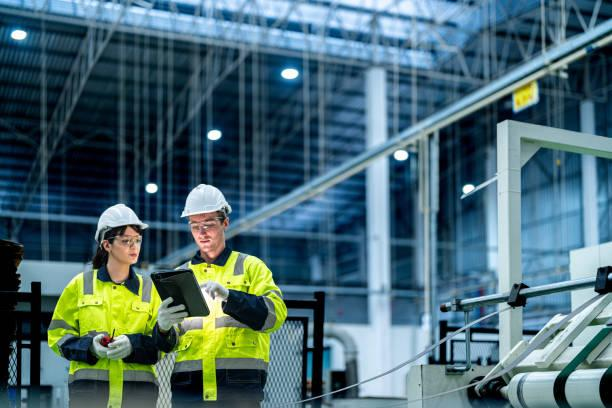capacete: (177, 183, 246, 220), (93, 200, 148, 232)
luca: (201, 278, 235, 302)
luva: (112, 335, 135, 360)
oculos de protecao: (101, 235, 146, 249)
pessoa: (166, 177, 271, 408), (54, 208, 169, 408)
uniforme seguranca: (47, 269, 168, 381)
unifr: (175, 253, 276, 377)
